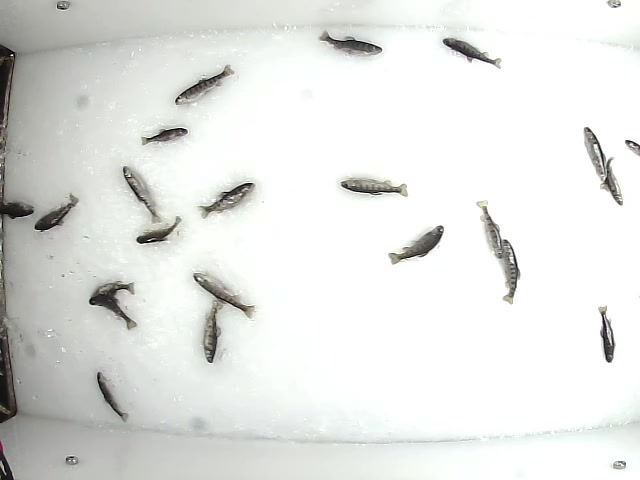fish: (190, 273, 256, 318), (174, 63, 234, 107), (385, 224, 445, 267), (121, 165, 161, 226), (197, 179, 256, 220), (439, 34, 504, 70), (315, 27, 384, 56), (582, 126, 610, 196), (338, 174, 410, 200), (32, 193, 78, 233), (474, 200, 504, 261), (96, 369, 129, 424), (200, 298, 226, 366), (89, 296, 138, 330), (133, 214, 184, 245), (502, 236, 522, 307), (596, 304, 617, 367), (138, 126, 190, 147), (602, 153, 622, 205), (87, 281, 136, 301)
